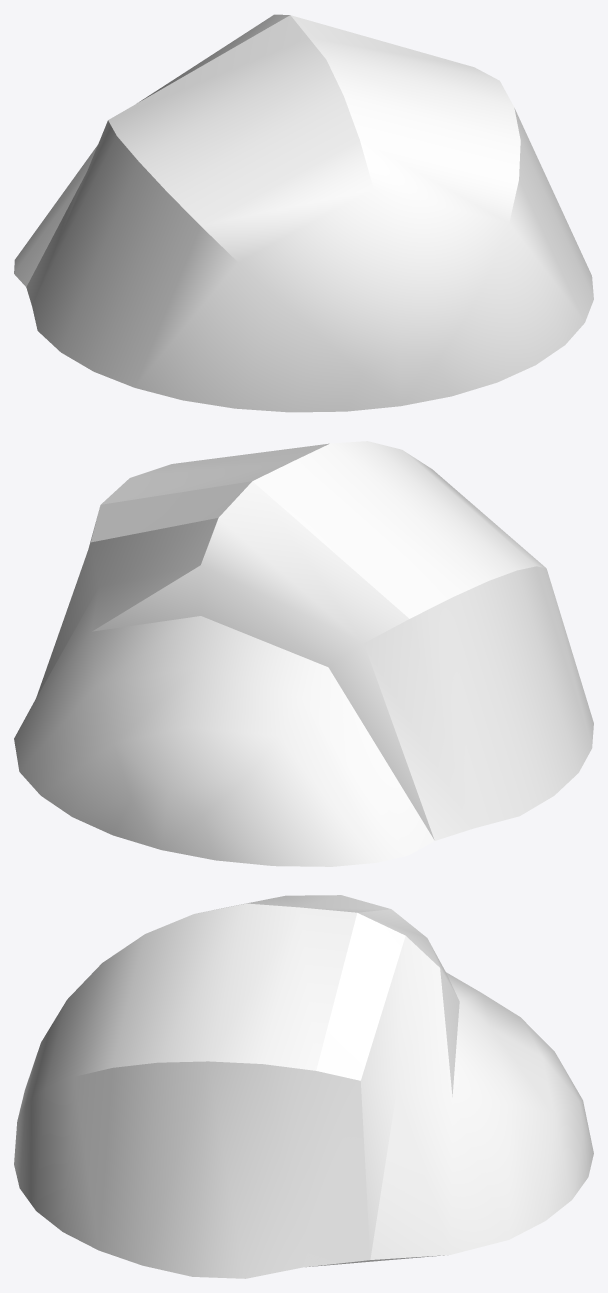
The model's file is Foot_R.obj.
The picture shows the model from 3 angles, top to bottom: view 1: azimuth 30°, elevation 25°; view 2: azimuth 150°, elevation 25°; view 3: azimuth 270°, elevation 25°; orthographic projection. The views are drawn at different scales.
Parts seen in each view (by area): view 1: P_Foot_R; view 2: P_Foot_R; view 3: P_Foot_R.
Boxes of the visible parts, x1,y1,x2,y2 form: P_Foot_R: (14, 14, 593, 412); P_Foot_R: (14, 441, 593, 866); P_Foot_R: (14, 895, 593, 1278).
Size of the model in its own units: 0.7168 by 0.3601 by 0.738.
Materials: 1 (1 with a texture image).
